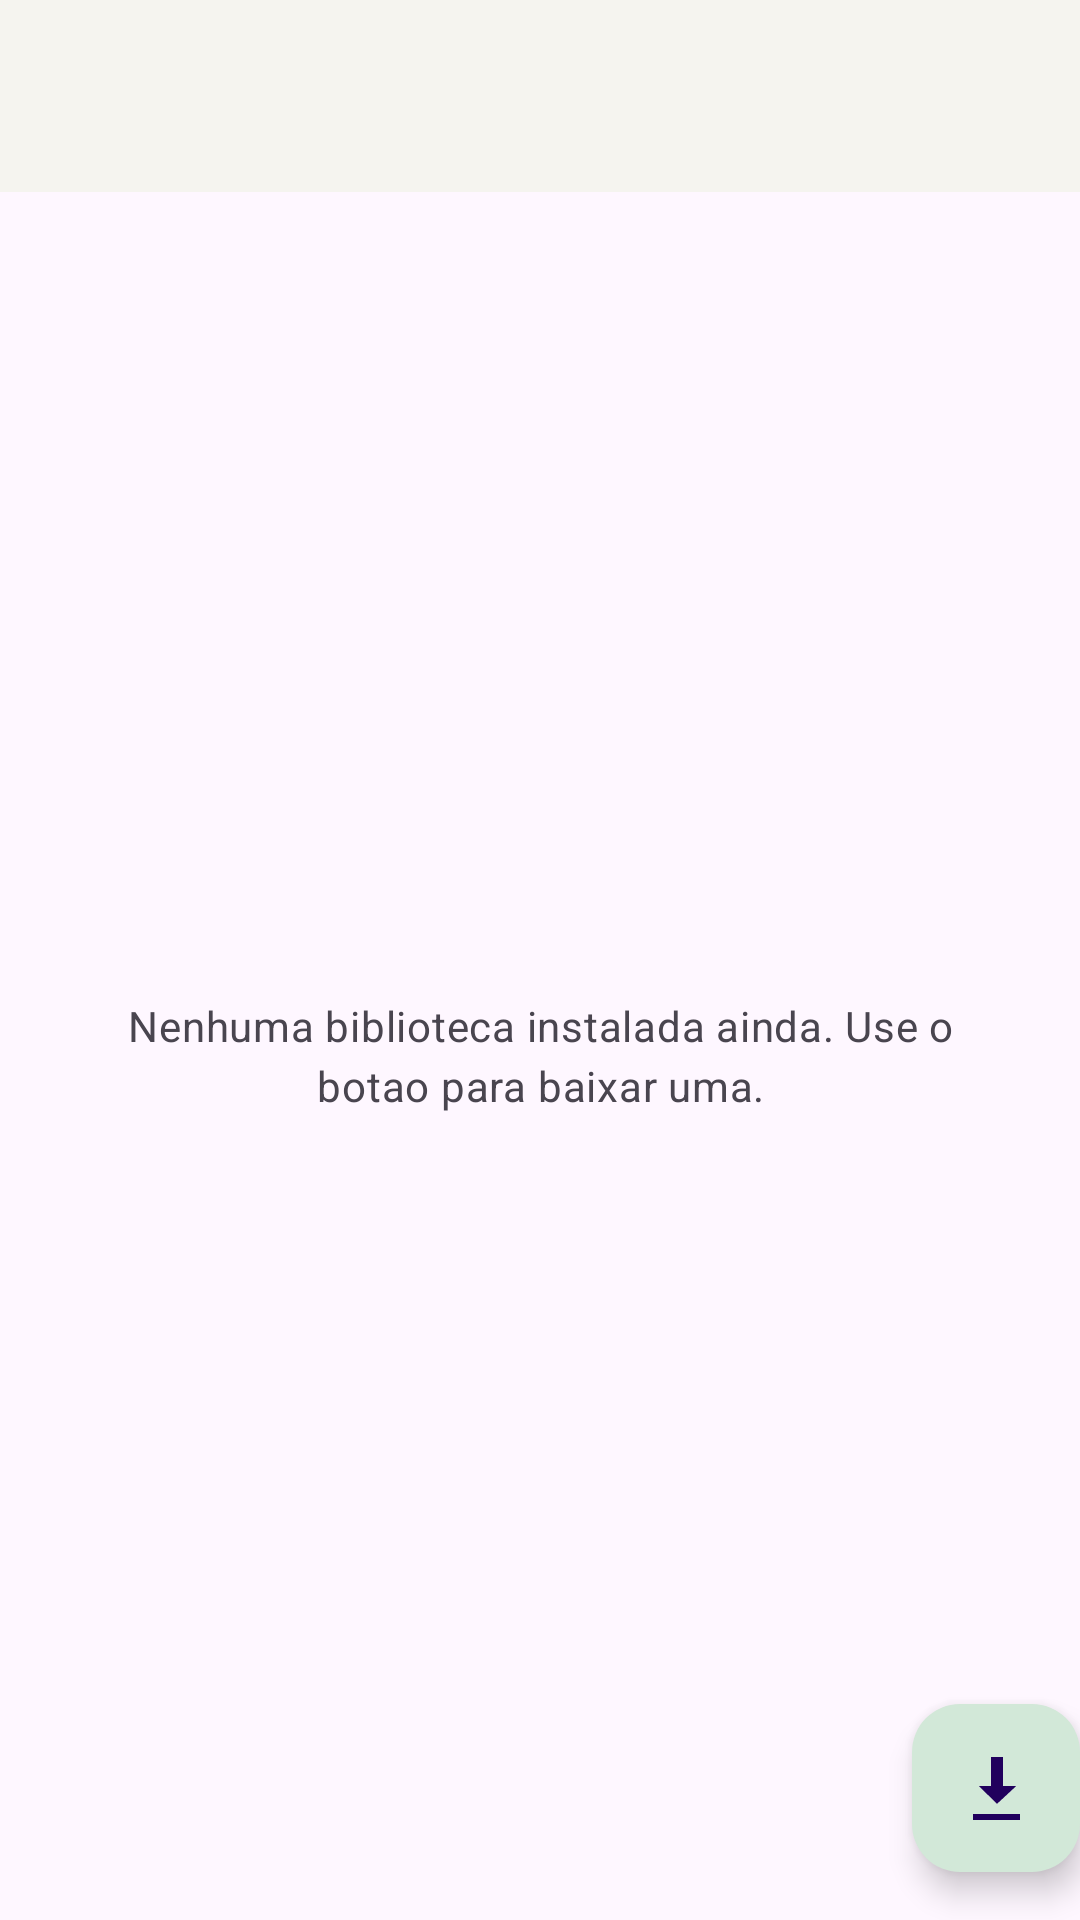

Where to tap for icons on this 1080*1920 app screen, as (x=x, y=y):
Baixar: (x=996, y=1788)
